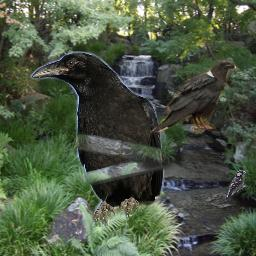Crow: (30, 51, 165, 226), (150, 59, 238, 136)
Woodpecker: (224, 169, 249, 201)
